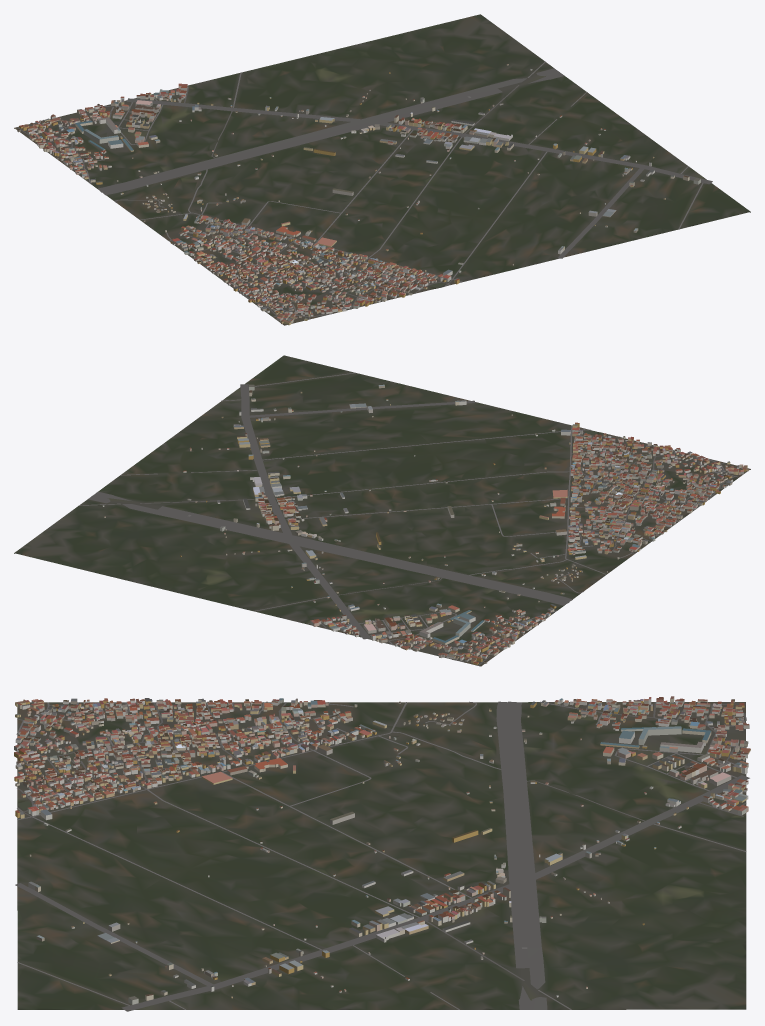
3 views of the same model, one above another, from view 1: azimuth 30°, elevation 25°; view 2: azimuth 150°, elevation 25°; view 3: azimuth 270°, elevation 25° (orthographic). The views are drawn at different scales.
Visible parts, largest first — view 1: ground, buildings, roads; view 2: ground, buildings, roads; view 3: ground, buildings, roads.
Boxes of the visible parts, bbox=[...] form: ground: bbox=[14, 14, 750, 325]; buildings: bbox=[17, 64, 700, 325]; roads: bbox=[16, 61, 712, 319]; ground: bbox=[14, 355, 750, 666]; buildings: bbox=[102, 384, 748, 664]; roads: bbox=[79, 372, 739, 665]; ground: bbox=[17, 702, 746, 1009]; buildings: bbox=[14, 696, 750, 1004]; roads: bbox=[15, 701, 749, 1011].
Size of the model in its own units: 1415 by 17.82 by 1418.
